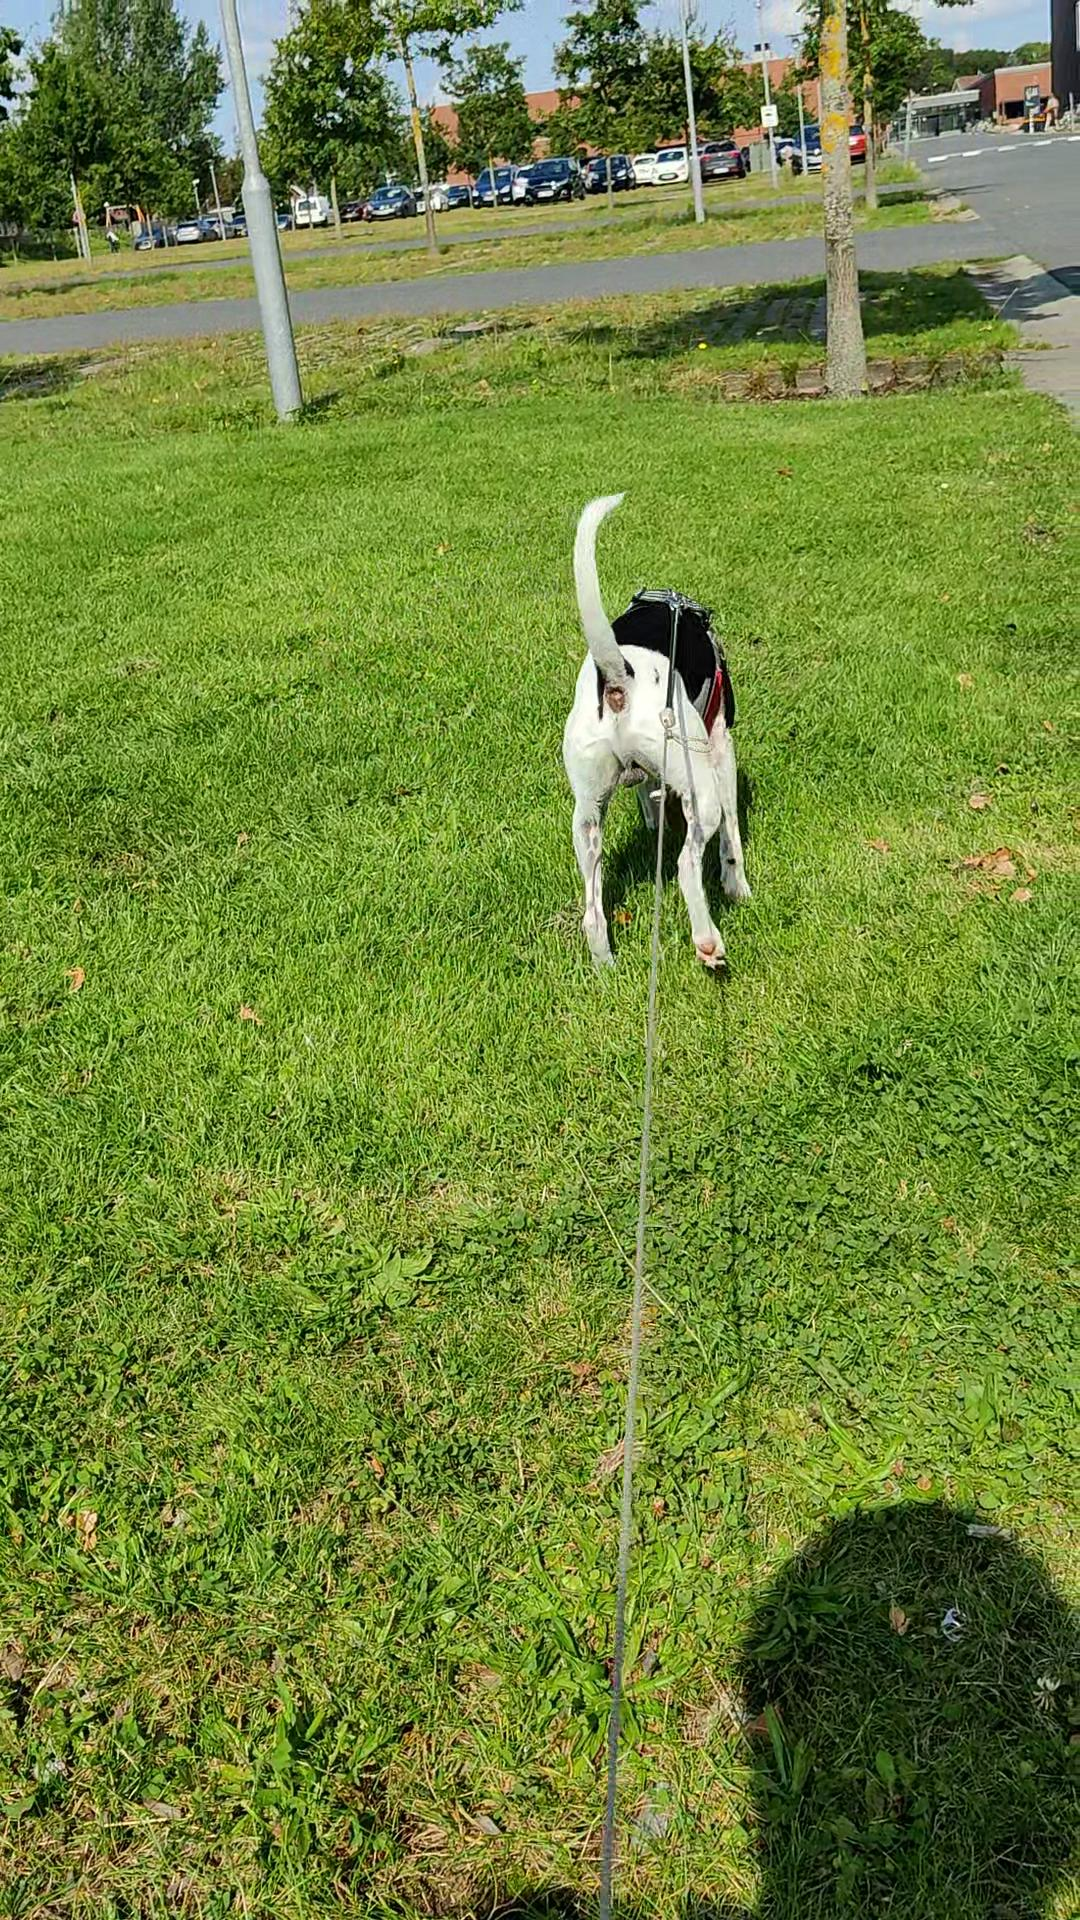Dog: (554, 487, 752, 981)
